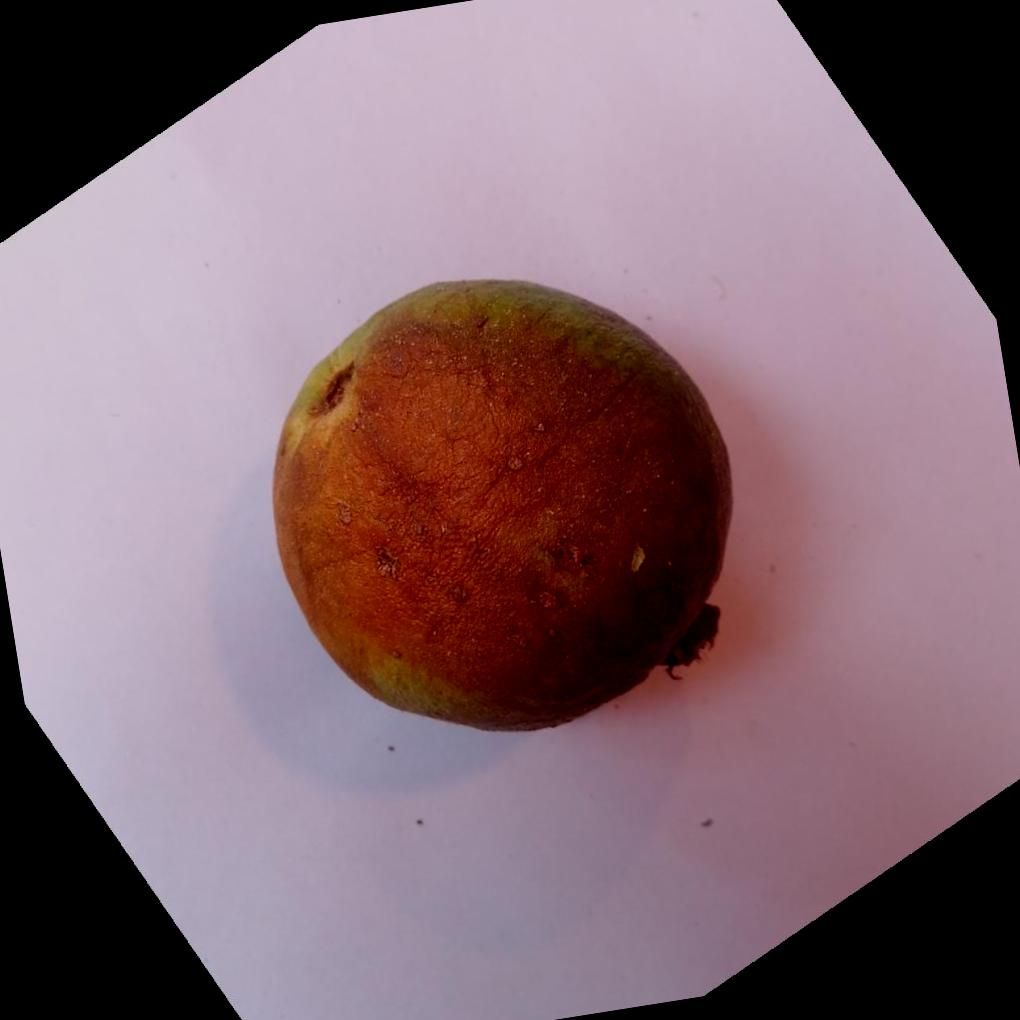FreshOrange: (271, 279, 735, 737)
